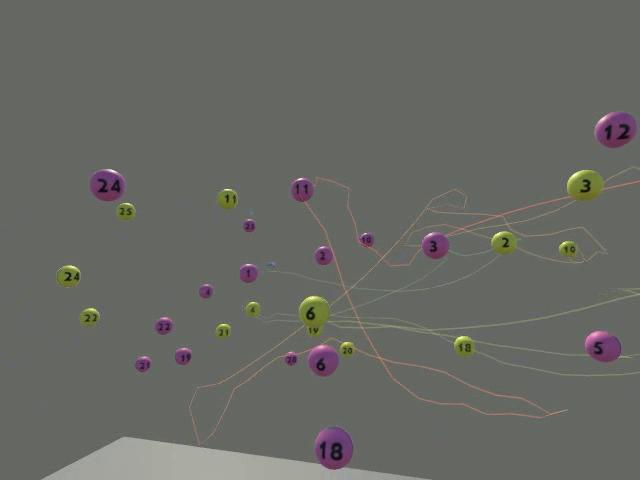ball_01_pink: (239, 263, 258, 282)
ball_02_pink: (314, 245, 332, 265)
ball_02_yellow: (490, 230, 516, 254)
ball_03_pink: (421, 231, 448, 258)
ball_03_yellow: (566, 169, 603, 200)
ball_04_pink: (198, 283, 213, 298)
ball_04_yellow: (244, 301, 260, 316)
ball_05_pink: (584, 330, 621, 362)
ball_06_pink: (307, 344, 339, 376)
ball_06_yellow: (298, 295, 331, 324)
ball_10_pink: (358, 232, 374, 247)
ball_10_yellow: (558, 240, 576, 257)
ball_11_pink: (290, 177, 313, 202)
ball_11_yellow: (216, 188, 238, 209)
ball_12_pink: (593, 111, 636, 148)
ball_18_pink: (314, 426, 352, 469)
ball_18_yellow: (453, 335, 474, 356)
ball_19_pink: (174, 347, 191, 365)
ball_19_yellow: (306, 325, 323, 337)
ball_20_pink: (283, 351, 298, 365)
ball_20_yellow: (339, 341, 354, 356)
ball_21_pink: (134, 355, 150, 372)
ball_21_yellow: (214, 323, 231, 338)
ball_22_pink: (154, 316, 173, 334)
ball_22_yellow: (80, 308, 100, 326)
ball_24_pink: (89, 168, 125, 201)
ball_24_yellow: (56, 264, 80, 287)
ball_25_pink: (243, 219, 256, 233)
ball_25_yellow: (116, 202, 135, 220)
